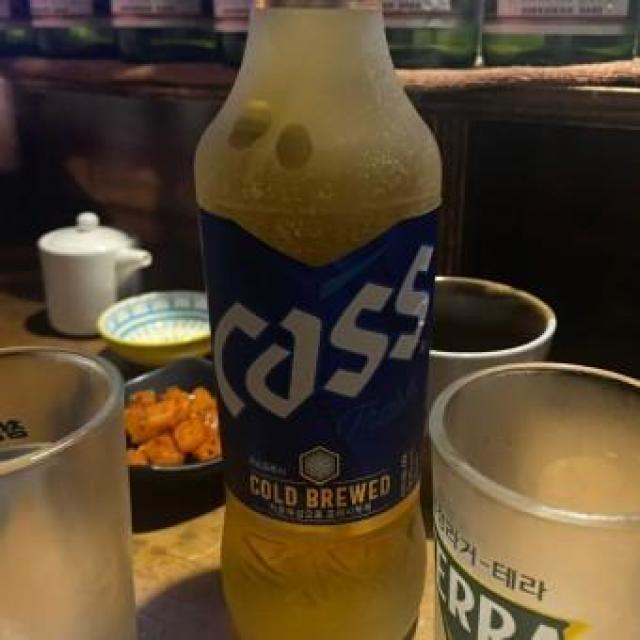beer-bottle: (182, 0, 450, 640)
